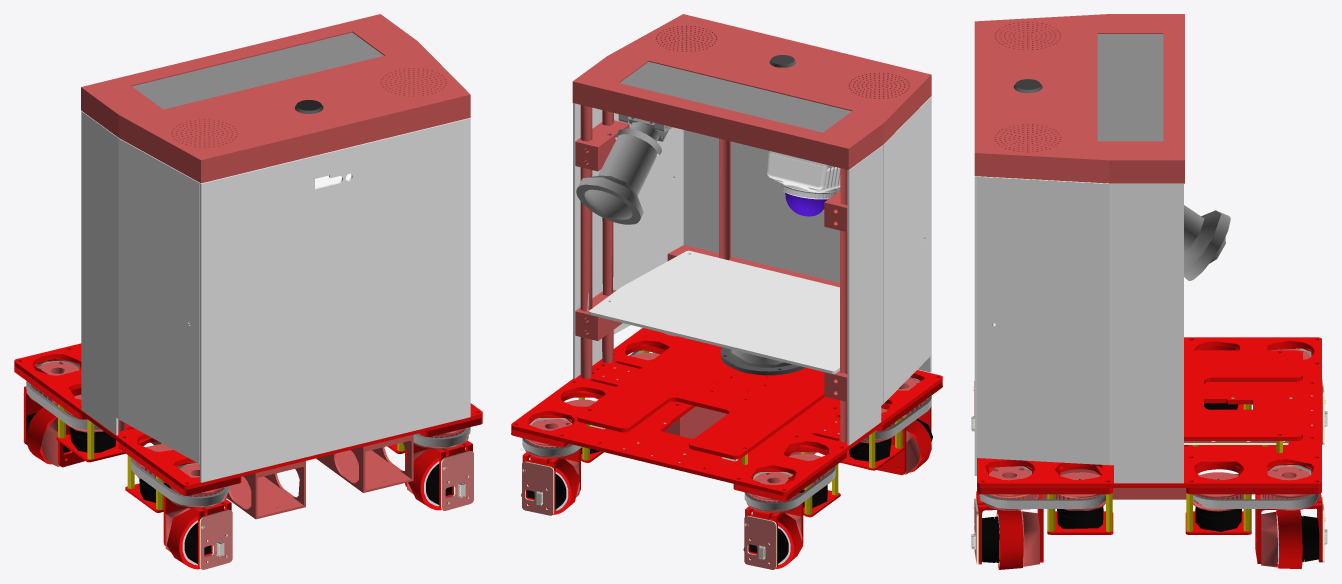
3 views of the same model, side by side, from view 1: azimuth 30°, elevation 25°; view 2: azimuth 150°, elevation 25°; view 3: azimuth 270°, elevation 25° (orthographic). The views are drawn at different scales.
Parts seen in each view (by area): view 1: Node6; view 2: Node6; view 3: Node6.
Part boxes in pixels (x1,y1,x2,y2): Node6: [14, 14, 482, 569]; Node6: [511, 14, 942, 569]; Node6: [971, 14, 1327, 569].
Size of the model in its own units: 0.298 by 0.4018 by 0.3067.
1 material, 1 textured.
